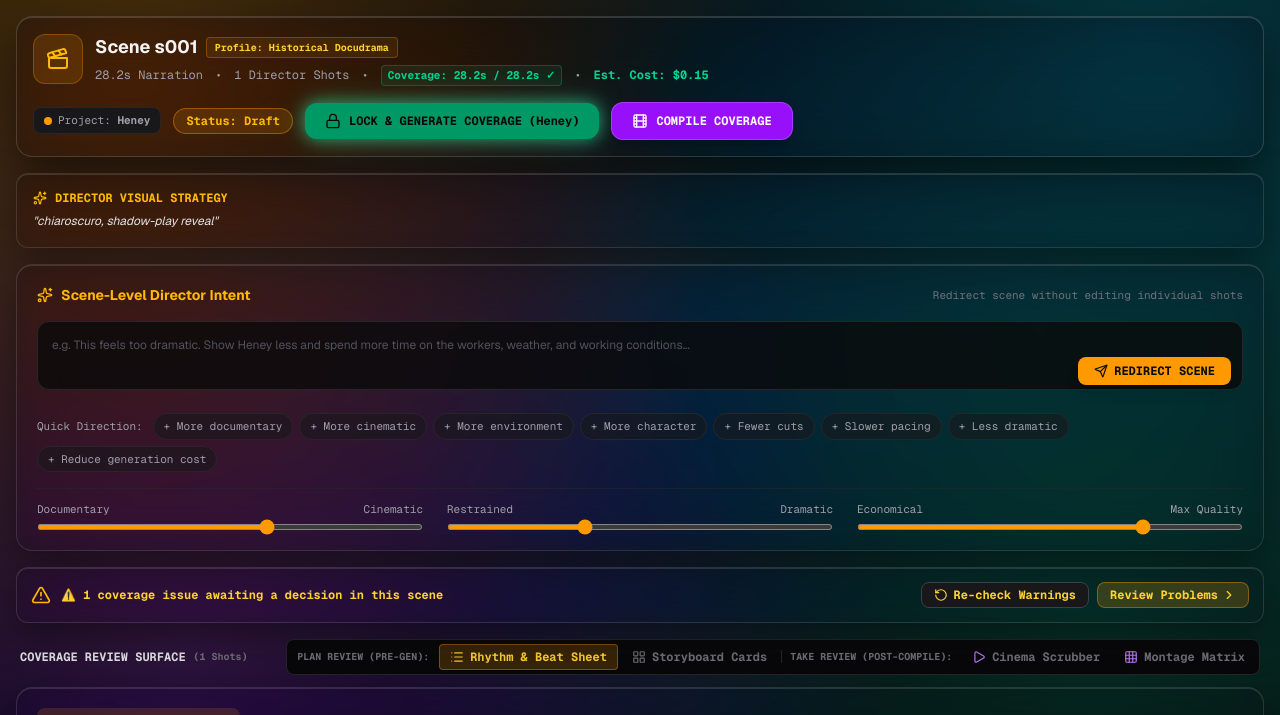
Scenario: a resolved finding survives a scene switch › a finding nobody decided still blocks, after the same switch
Click the button "Review Problems": click(1173, 595) [1097, 582, 1249, 608]
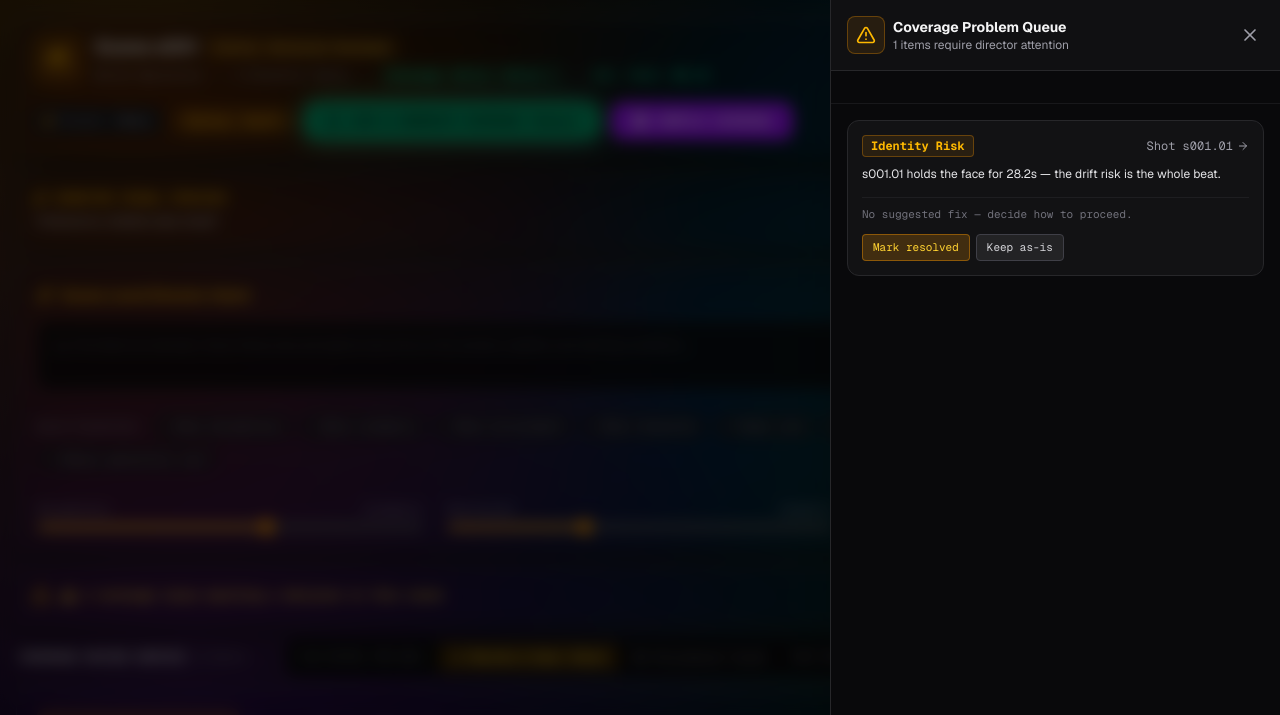
Now the button "Mark resolved" is shown, box [862, 234, 970, 260]
